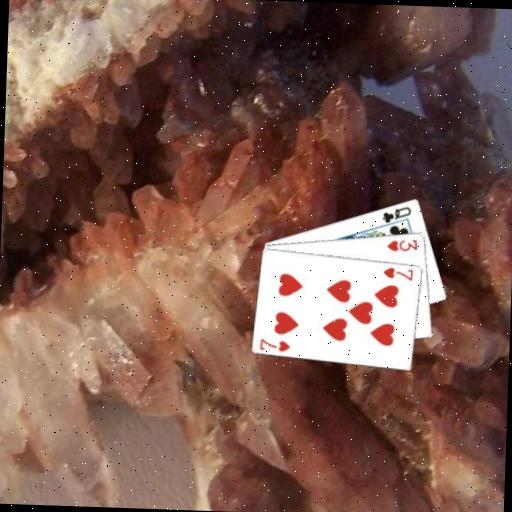3H: (383, 235, 419, 253)
7H: (256, 335, 292, 353), (380, 264, 415, 282)
QC: (379, 202, 412, 225)
